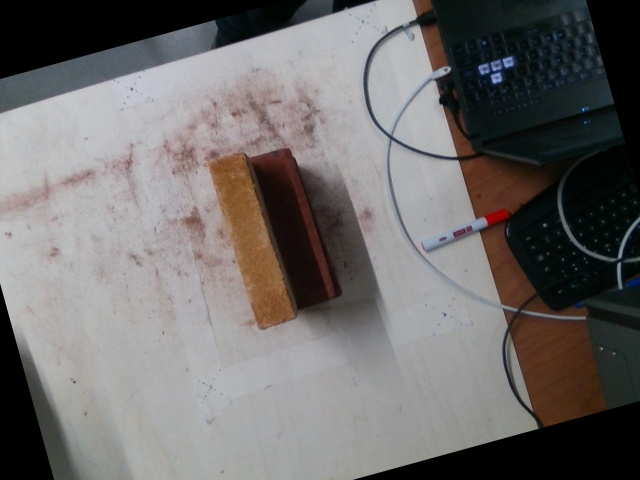brick-side: (209, 154, 293, 330)
